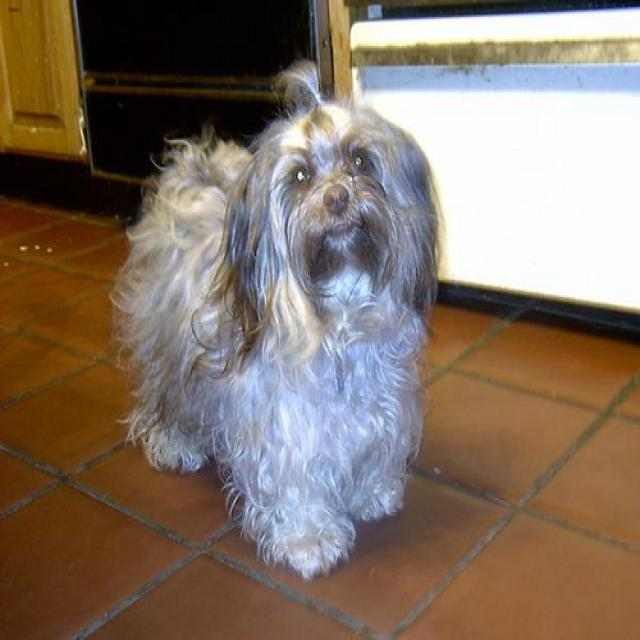dog-havanese: (104, 56, 451, 584)
